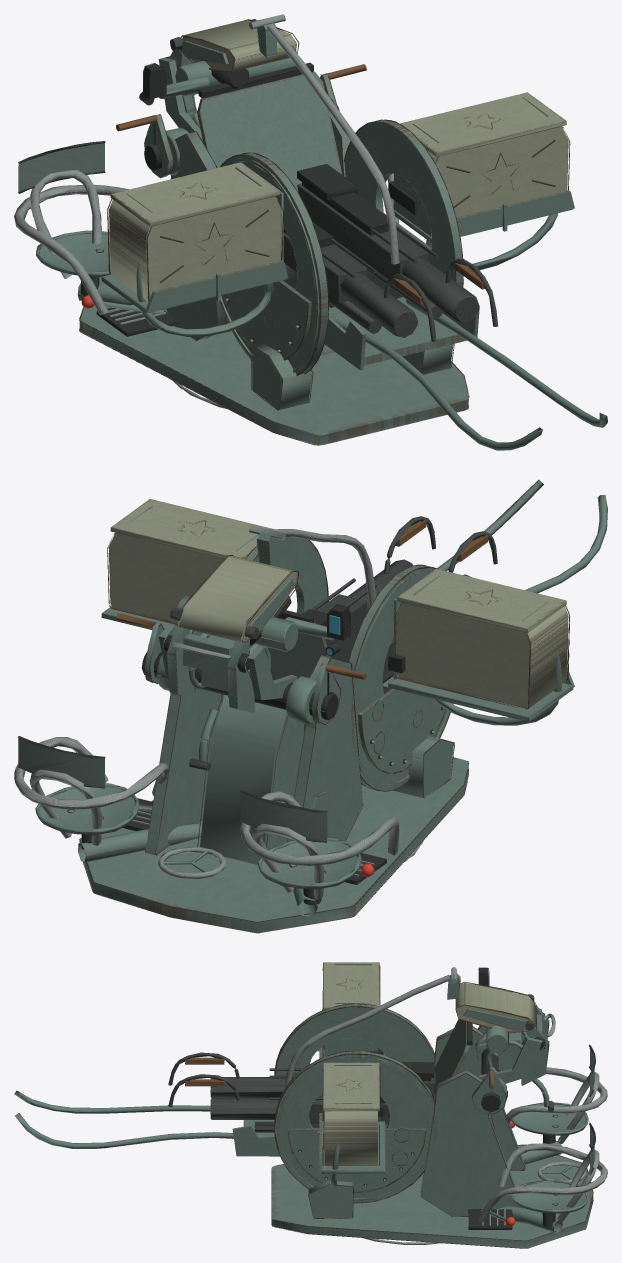
Rendered from zu23_mount.glb.
3 renders of one model, top to bottom at view 1: azimuth 30°, elevation 25°; view 2: azimuth 150°, elevation 25°; view 3: azimuth 270°, elevation 25°, orthographic. The views are drawn at different scales.
Parts seen in each view (by area): view 1: zu_mount; view 2: zu_mount; view 3: zu_mount.
Boxes of the visible parts, <box> form: zu_mount: <box>14,14,607,450</box>; zu_mount: <box>14,479,607,933</box>; zu_mount: <box>14,962,607,1248</box>.
Size of the model in its own units: 2.41 by 1.75 by 4.04.
Materials: 10 (8 with a texture image).
